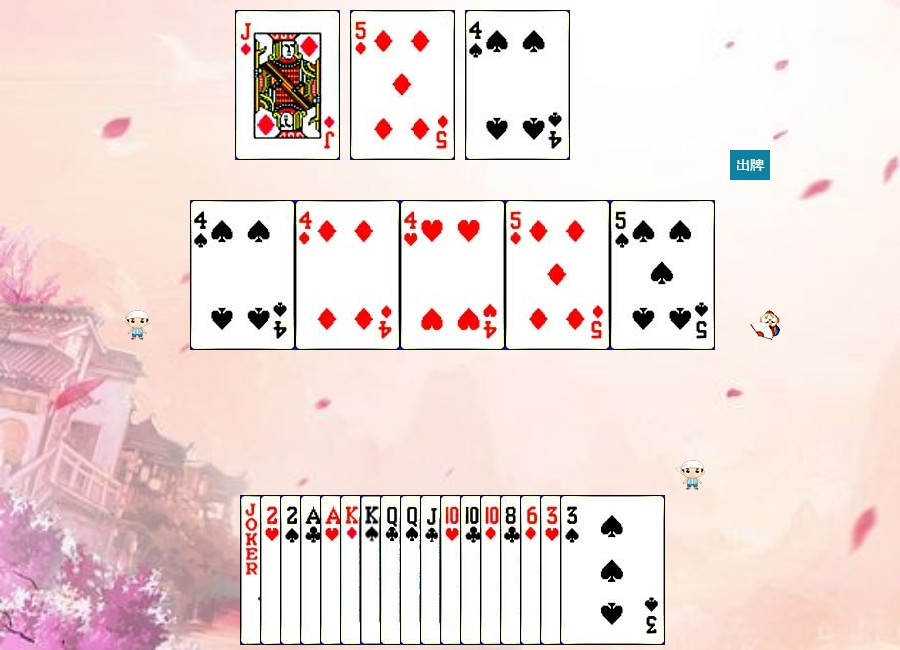10~1: (480, 495, 585, 645)
10~2: (460, 495, 565, 645)
10~3: (440, 495, 545, 645)
11~1: (235, 10, 340, 160)
11~2: (420, 495, 525, 645)
12~2: (380, 495, 485, 645)
12~4: (400, 495, 505, 645)
13~1: (340, 495, 445, 645)
13~4: (360, 495, 465, 645)
14~2: (300, 495, 405, 645)
14~3: (320, 495, 425, 645)
15~3: (260, 495, 365, 645)
15~4: (280, 495, 385, 645)
18~4: (240, 495, 345, 645)
3~3: (540, 495, 645, 645)
3~4: (560, 495, 665, 645)
4~1: (295, 200, 400, 350)
4~3: (400, 200, 505, 350)
4~4: (465, 10, 570, 160), (190, 200, 295, 350)
5~1: (350, 10, 455, 160), (505, 200, 610, 350)
5~4: (610, 200, 715, 350)
6~1: (520, 495, 625, 645)
8~2: (500, 495, 605, 645)
